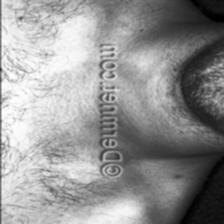Toxin: (34, 64, 92, 157), (121, 62, 153, 162)
